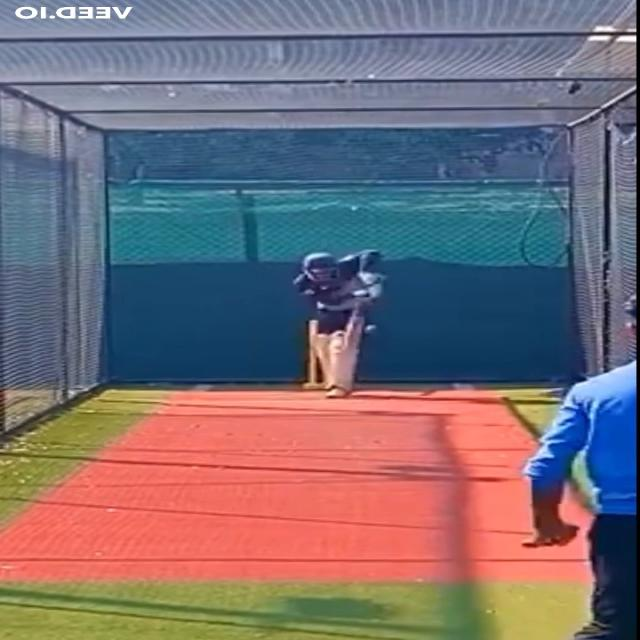ball: (361, 323, 382, 335)
